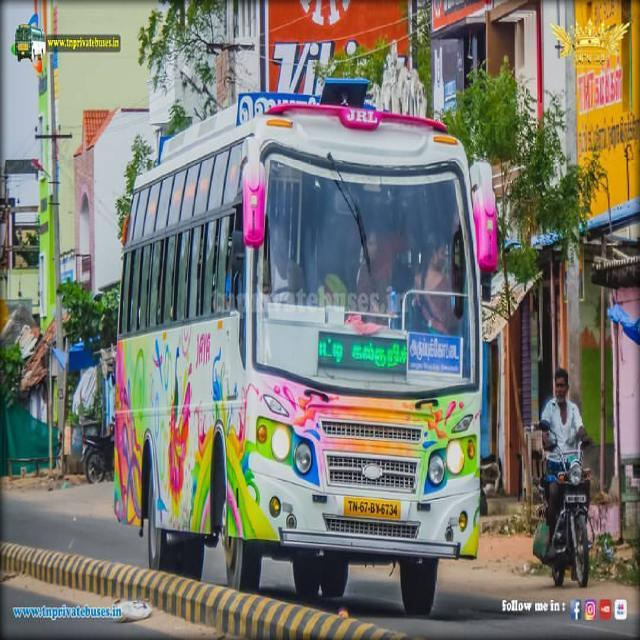Bus: (112, 98, 486, 606)
